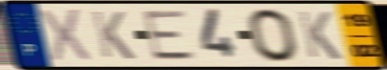4: (200, 7, 243, 65)
E: (140, 9, 200, 62)
K: (295, 9, 344, 62), (89, 9, 137, 62)
O: (245, 7, 302, 64)
X: (38, 7, 93, 64)
